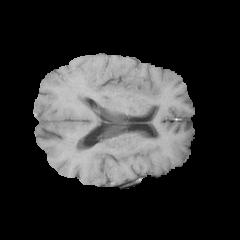glioma: (108, 70, 159, 104)
